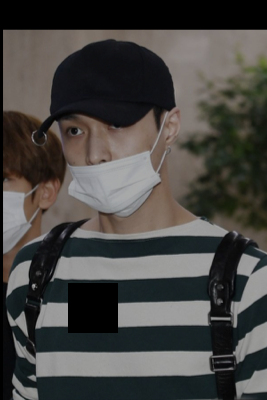mask_weared_incorrect: (60, 115, 165, 213)
